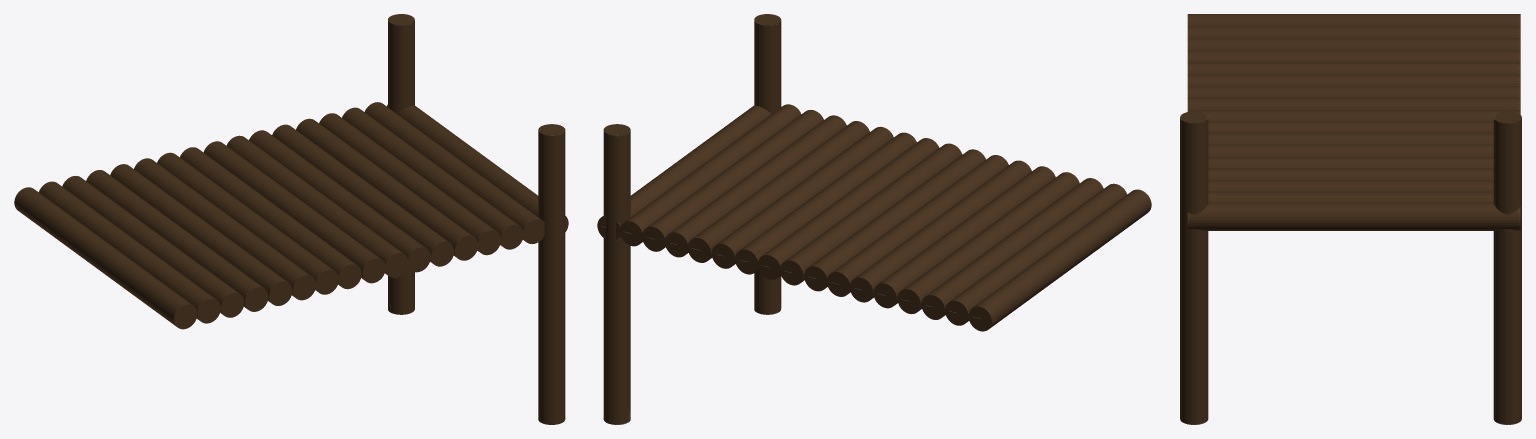
File: Dock.fbx
3 views of the same model, side by side, from view 1: azimuth 30°, elevation 25°; view 2: azimuth 150°, elevation 25°; view 3: azimuth 270°, elevation 25° (orthographic). The views are drawn at different scales.
Visible parts, largest first — view 1: Cylinder.020; view 2: Cylinder.020; view 3: Cylinder.020.
Boxes of the visible parts, <box> form: Cylinder.020: <box>14,14,568,424</box>; Cylinder.020: <box>597,14,1151,424</box>; Cylinder.020: <box>1180,14,1521,424</box>.
Bounding box in the file's own units: 152 × 107 × 109.
1 material, 1 textured.
